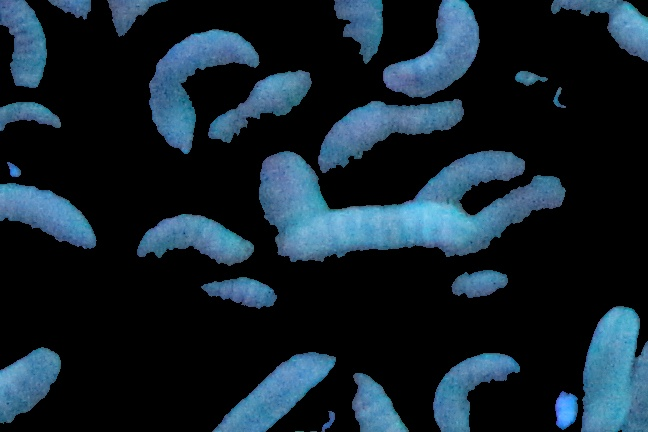larvae: (136, 4, 272, 167), (306, 89, 475, 189), (272, 203, 483, 271), (203, 57, 319, 155), (118, 206, 268, 281), (210, 343, 332, 428), (388, 1, 488, 104), (275, 1, 388, 81), (582, 291, 635, 432), (429, 350, 520, 432), (1, 181, 101, 252), (412, 148, 536, 203), (257, 149, 334, 223), (1, 340, 62, 426), (348, 363, 408, 432), (2, 1, 49, 88), (1, 98, 70, 137)
